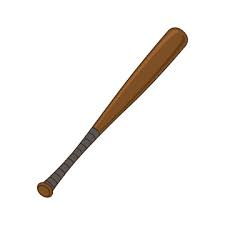baseball bat: (36, 27, 189, 198)
